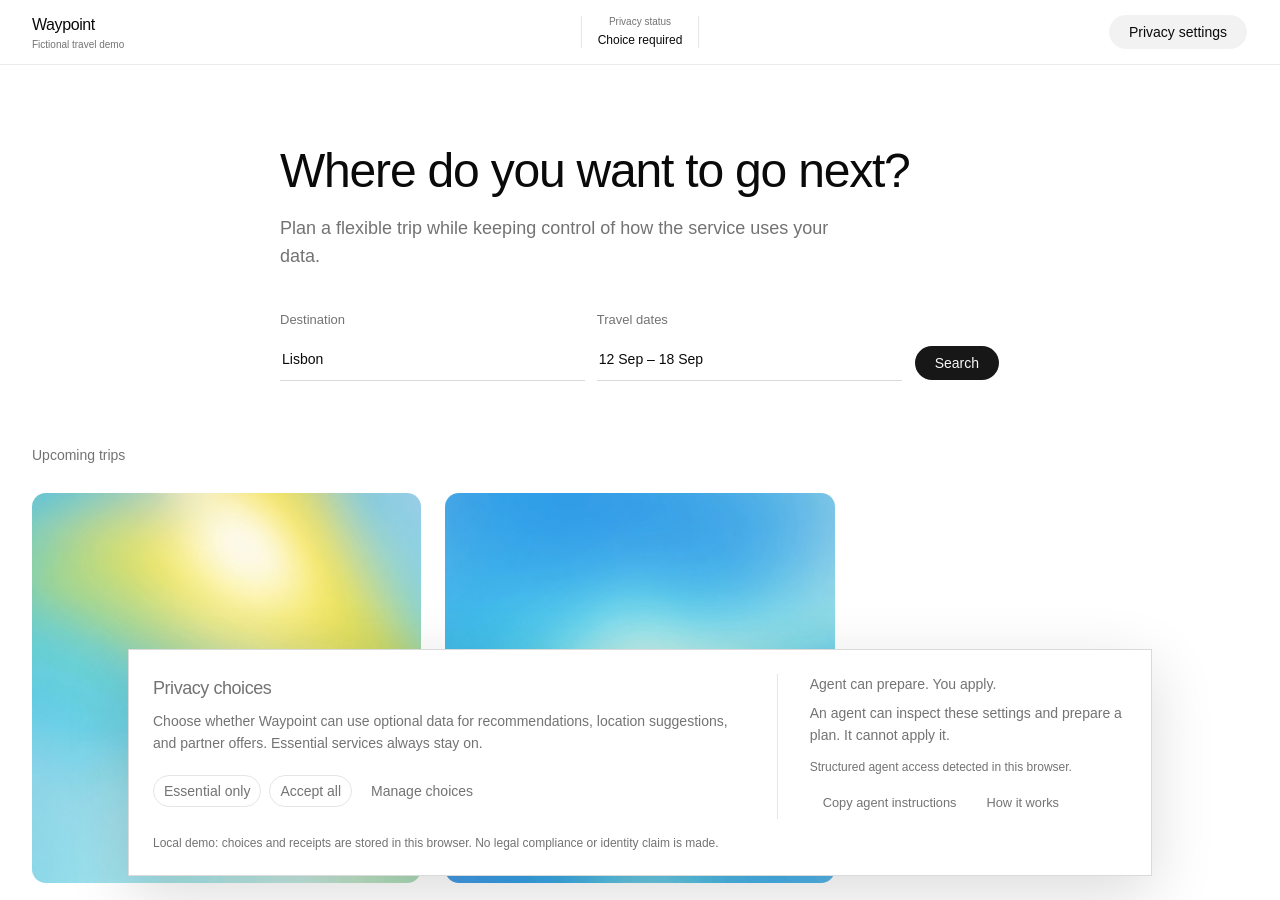
Scenario: privacy settings UI › does not allow reviewing or applying a plan with no changes
The width and height of the screenshot is (1280, 900).
Click the button "Privacy settings".
click(1178, 32)  # box left=1108, top=14, right=1248, bottom=50
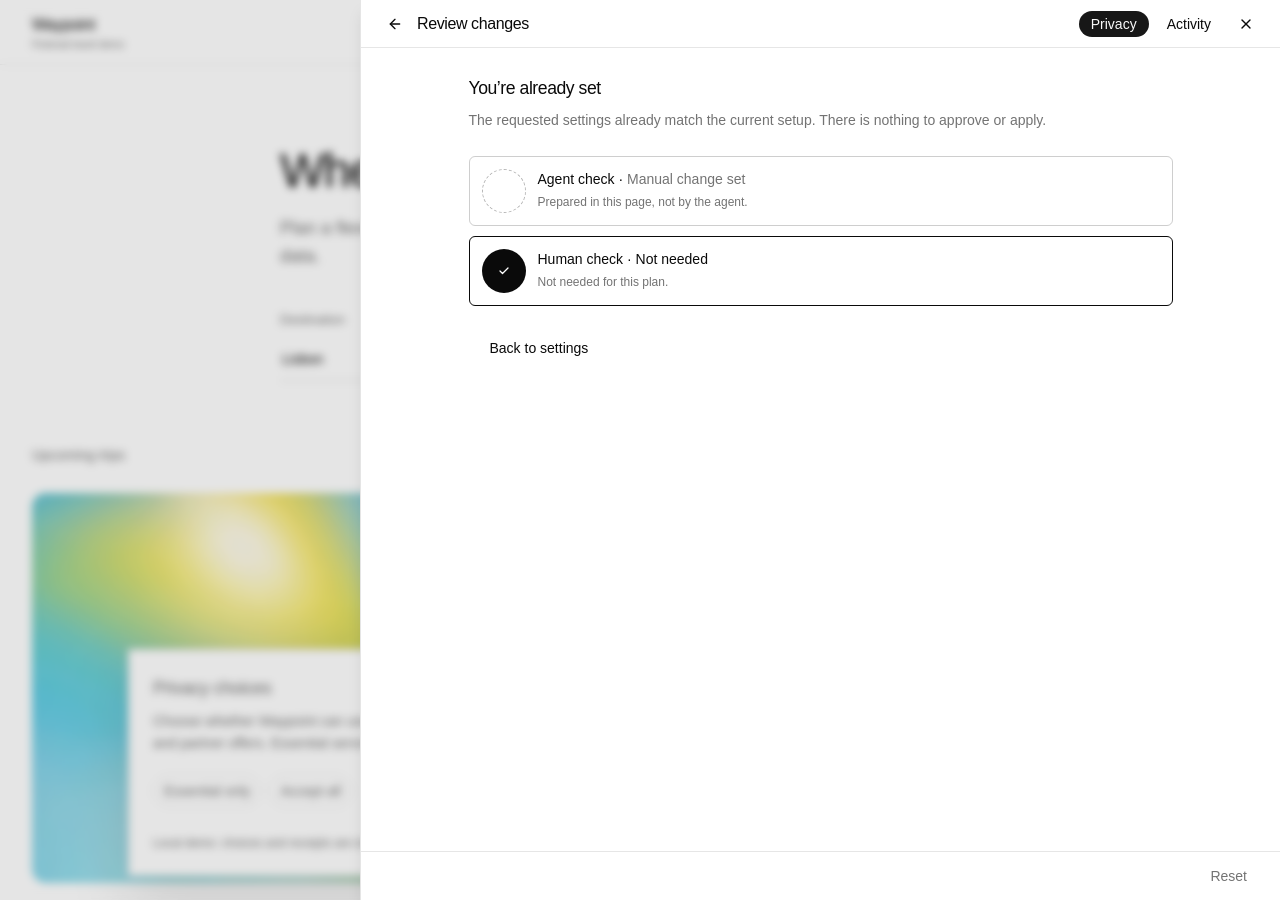
Result: the text "You’re already set" is shown at left=468, top=78, right=601, bottom=98
Result: the text "nothing to approve or apply" is shown at left=468, top=112, right=1046, bottom=128
